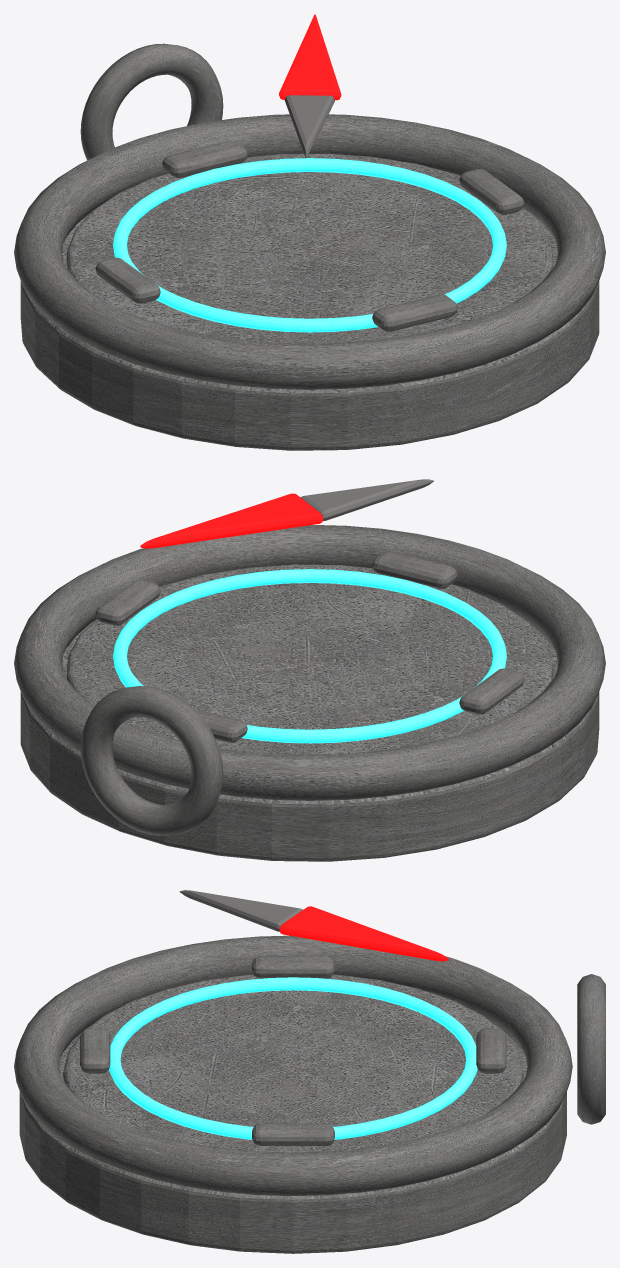
File: pirate_astrolabe_compass_textured.glb
The picture shows the model from 3 angles, top to bottom: view 1: azimuth 30°, elevation 25°; view 2: azimuth 150°, elevation 25°; view 3: azimuth 270°, elevation 25°; orthographic projection. The views are drawn at different scales.
Visible parts, largest first — view 1: Compass_Face, Compass_OuterRing, Compass_Case, Compass_InnerGlow, Compass_HangingLoop, Compass_NorthNeedle, Compass_Cardinal_04, Compass_Cardinal_02, Compass_SouthNeedle, Compass_Cardinal_03, Compass_Cardinal_01; view 2: Compass_Face, Compass_OuterRing, Compass_Case, Compass_HangingLoop, Compass_InnerGlow, Compass_NorthNeedle, Compass_SouthNeedle, Compass_Cardinal_04, Compass_Cardinal_03, Compass_Cardinal_01, Compass_Cardinal_02; view 3: Compass_Face, Compass_OuterRing, Compass_Case, Compass_InnerGlow, Compass_HangingLoop, Compass_NorthNeedle, Compass_SouthNeedle, Compass_Cardinal_01, Compass_Cardinal_03, Compass_Cardinal_04, Compass_Cardinal_02.
Boxes of the visible parts, x1=… form: Compass_Face: x1=66, y1=153, x2=553, y2=343; Compass_OuterRing: x1=14, y1=114, x2=605, y2=389; Compass_Case: x1=20, y1=210, x2=599, y2=450; Compass_InnerGlow: x1=113, y1=158, x2=506, y2=332; Compass_HangingLoop: x1=80, y1=43, x2=223, y2=160; Compass_NorthNeedle: x1=279, y1=14, x2=341, y2=100; Compass_Cardinal_04: x1=372, y1=294, x2=457, y2=331; Compass_Cardinal_02: x1=162, y1=140, x2=247, y2=177; Compass_SouthNeedle: x1=284, y1=95, x2=334, y2=158; Compass_Cardinal_03: x1=95, y1=257, x2=160, y2=303; Compass_Cardinal_01: x1=459, y1=169, x2=524, y2=214; Compass_Face: x1=66, y1=564, x2=553, y2=754; Compass_OuterRing: x1=14, y1=525, x2=605, y2=800; Compass_Case: x1=20, y1=621, x2=599, y2=861; Compass_HangingLoop: x1=80, y1=686, x2=223, y2=835; Compass_InnerGlow: x1=113, y1=569, x2=506, y2=743; Compass_NorthNeedle: x1=140, y1=493, x2=323, y2=548; Compass_SouthNeedle: x1=300, y1=479, x2=433, y2=520; Compass_Cardinal_04: x1=372, y1=551, x2=457, y2=588; Compass_Cardinal_03: x1=459, y1=668, x2=524, y2=714; Compass_Cardinal_01: x1=95, y1=580, x2=160, y2=625; Compass_Cardinal_02: x1=194, y1=709, x2=247, y2=742; Compass_Face: x1=63, y1=974, x2=523, y2=1152; Compass_OuterRing: x1=14, y1=935, x2=572, y2=1195; Compass_Case: x1=19, y1=1025, x2=566, y2=1253; Compass_InnerGlow: x1=109, y1=977, x2=477, y2=1139; Compass_HangingLoop: x1=577, y1=974, x2=605, y2=1124; Compass_NorthNeedle: x1=279, y1=906, x2=448, y2=961; Compass_SouthNeedle: x1=179, y1=890, x2=302, y2=931; Compass_Cardinal_01: x1=252, y1=1123, x2=334, y2=1145; Compass_Cardinal_03: x1=252, y1=956, x2=334, y2=978; Compass_Cardinal_04: x1=80, y1=1028, x2=110, y2=1073; Compass_Cardinal_02: x1=476, y1=1028, x2=506, y2=1073.
Size of the model in its own units: 2.96 by 1.32 by 3.14.
5 materials, 4 textured.
